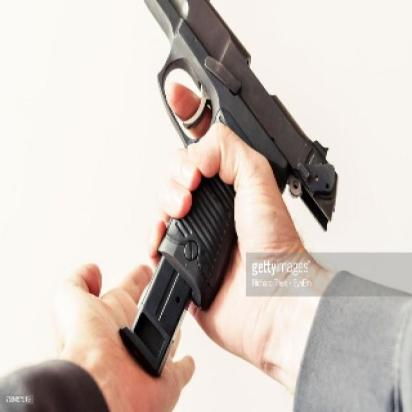Gun: (116, 0, 334, 375)
